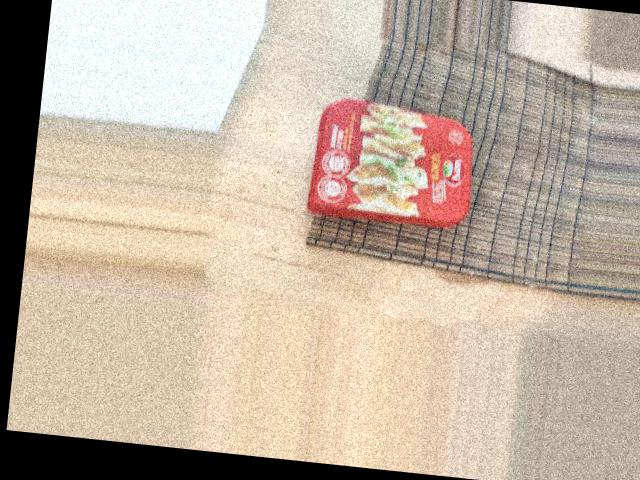cheese: (395, 26, 543, 219)
